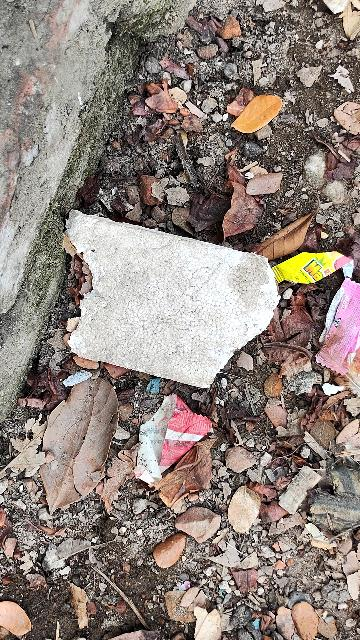cocksheet: (39, 210, 284, 402)
